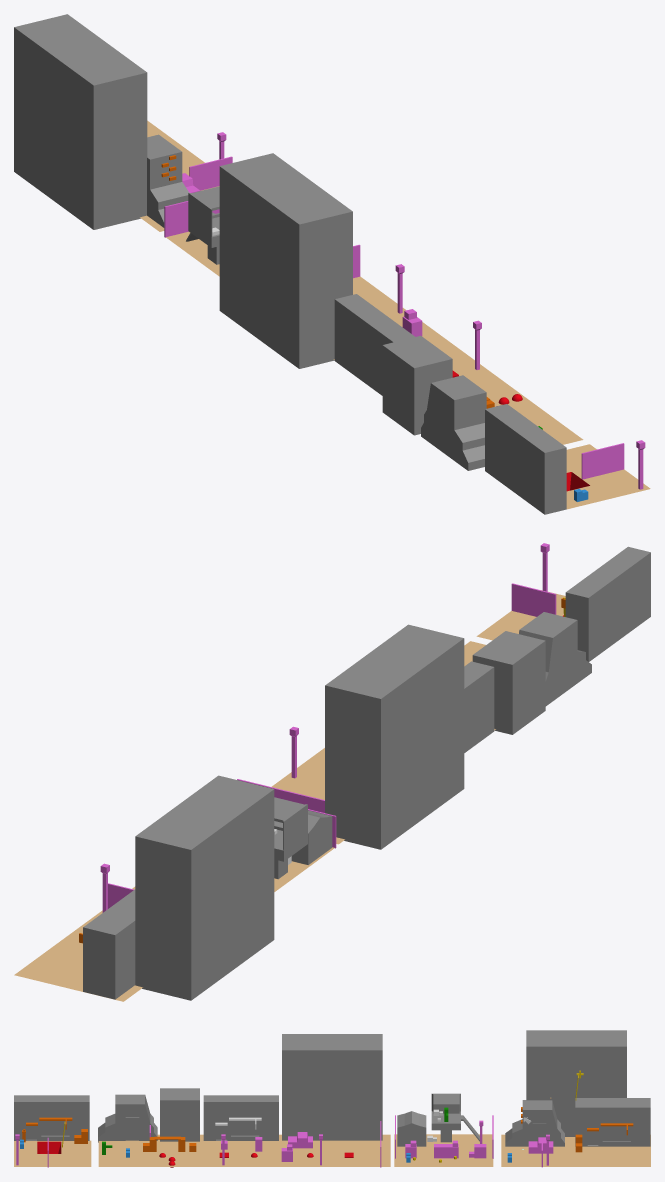
Rendered from AsielPino_GreyBox_NivelCalle_AcrossTheRuins.fbx.
3 renders of one model, top to bottom at view 1: azimuth 30°, elevation 25°; view 2: azimuth 150°, elevation 25°; view 3: azimuth 270°, elevation 25°, orthographic. The views are drawn at different scales.
Visible parts, largest first — view 1: Cube.041, Cube.049, Cube, Cube.035, Cube.062, Cube.046, Plane.003, Cube.022, Plane, Cube.010, Cube.031, Cube.036 (+3 smaller); view 2: Cube.041, Cube.049, Cube, Cube.062, Cube.026, Cube.035, Plane.002, Cube.046, Cube.010, Plane.003, Cube.038, Cube.036 (+2 smaller); view 3: Cube.049, Cube.041, Plane.003, Cube.026, Cube.046, Cube, Plane.002, Cube.035, Cube.062, Plane.001, Cube.022, Plane (+6 smaller).
Boxes of the visible parts, left/top/right/bottom form: Cube.041: left=14, top=14, right=147, bottom=229; Cube.049: left=219, top=153, right=352, bottom=368; Cube: left=485, top=404, right=566, bottom=514; Cube.035: left=421, top=375, right=486, bottom=470; Cube.062: left=382, top=335, right=452, bottom=435; Cube.046: left=334, top=294, right=414, bottom=395; Plane.003: left=333, top=276, right=583, bottom=444; Cube.022: left=147, top=134, right=189, bottom=227; Plane: left=566, top=444, right=650, bottom=509; Cube.010: left=186, top=186, right=219, bottom=264; Cube.031: left=182, top=132, right=232, bottom=192; Cube.036: left=581, top=443, right=624, bottom=479; Cube.041: left=135, top=775, right=274, bottom=1000; Cube.049: left=325, top=624, right=464, bottom=849; Cube: left=565, top=546, right=650, bottom=661; Cube.062: left=472, top=631, right=545, bottom=734; Cube.026: left=83, top=889, right=135, bottom=999; Cube.035: left=519, top=612, right=591, bottom=706; Plane.002: left=14, top=886, right=142, bottom=1001; Cube.046: left=464, top=661, right=494, bottom=752; Cube.010: left=274, top=797, right=307, bottom=879; Plane.003: left=271, top=641, right=495, bottom=844; Cube.038: left=274, top=810, right=332, bottom=864; Cube.036: left=511, top=583, right=556, bottom=616; Cube.049: left=282, top=1034, right=382, bottom=1140; Cube.041: left=526, top=1030, right=626, bottom=1136; Plane.003: left=98, top=1134, right=390, bottom=1166; Cube.026: left=575, top=1098, right=650, bottom=1146; Cube.046: left=203, top=1095, right=278, bottom=1140; Cube: left=14, top=1095, right=89, bottom=1140; Plane.002: left=501, top=1134, right=650, bottom=1166; Cube.035: left=98, top=1094, right=157, bottom=1142; Cube.062: left=160, top=1088, right=199, bottom=1141; Plane.001: left=394, top=1134, right=493, bottom=1166; Cube.022: left=505, top=1100, right=564, bottom=1146; Plane: left=14, top=1140, right=91, bottom=1166.
Bounding box in the file's own units: 3277 × 3315 × 18954.
